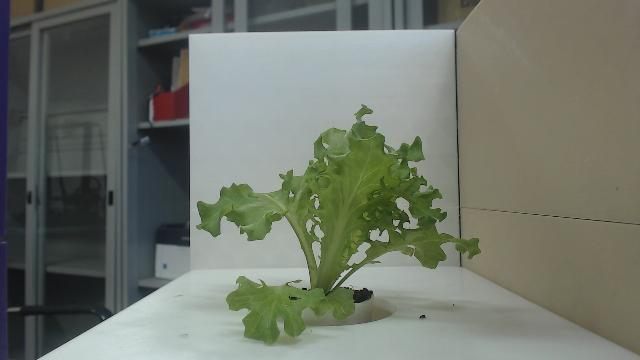Vegetative Stage: (195, 102, 483, 346)
